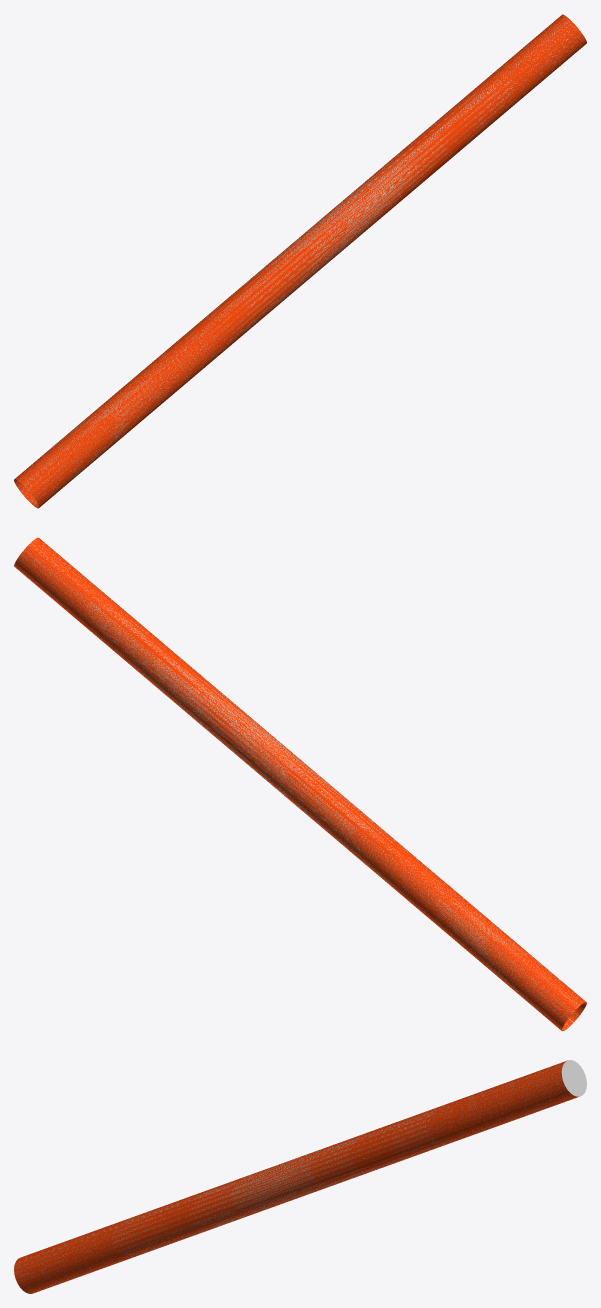
The model's file is original-29.obj.
The picture shows the model from 3 angles, top to bottom: view 1: azimuth 30°, elevation 25°; view 2: azimuth 150°, elevation 25°; view 3: azimuth 330°, elevation 25°; orthographic projection.
Parts seen in each view (by area): view 1: mesh5/mesh5-geometry#mesh5-geometry; view 2: mesh5/mesh5-geometry#mesh5-geometry; view 3: mesh5/mesh5-geometry#mesh5-geometry.
Part boxes in pixels (x1,y1,x2,y2): mesh5/mesh5-geometry#mesh5-geometry: (14,14,586,508); mesh5/mesh5-geometry#mesh5-geometry: (14,537,586,1031); mesh5/mesh5-geometry#mesh5-geometry: (14,1060,586,1293).
Size of the model in its own units: 0.5283 by 0.3229 by 0.031.
